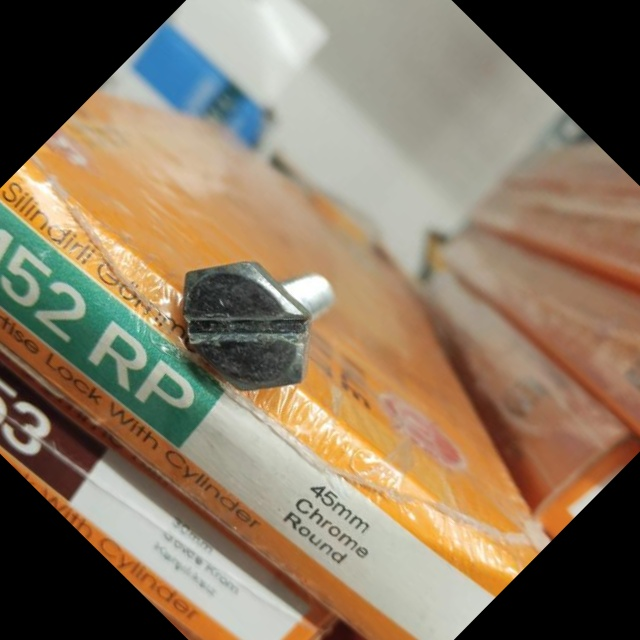duz: (150, 230, 342, 422)
